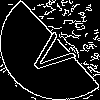V: (25, 25, 85, 80)
